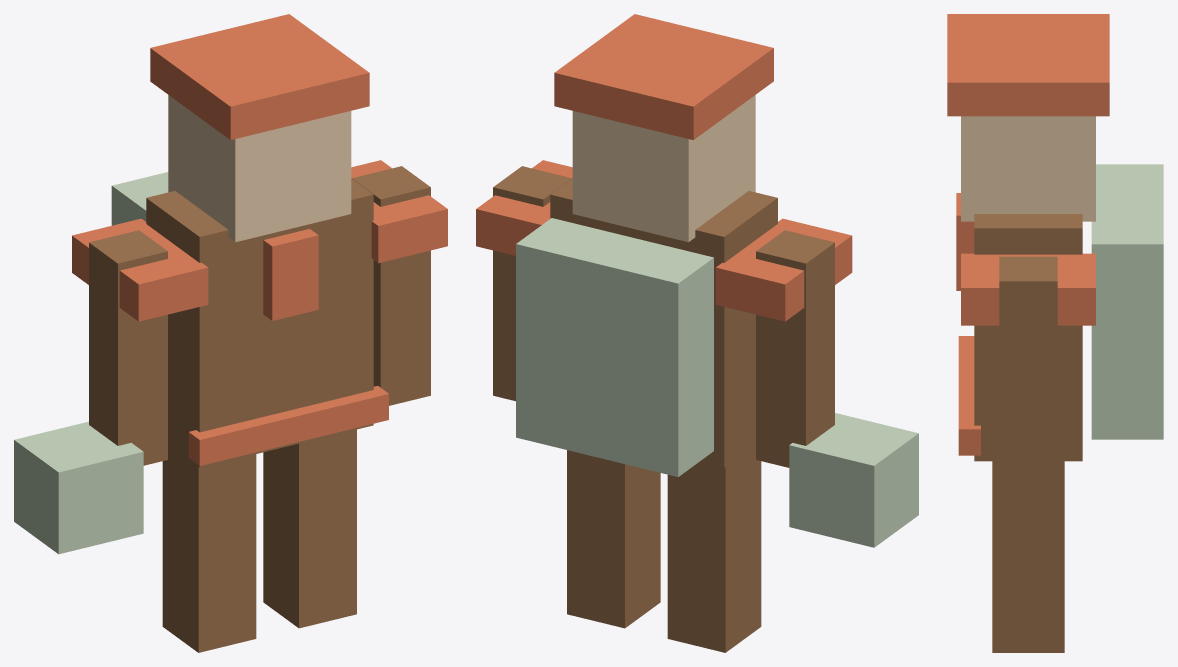
Rendered from 15_elo_echohand_operator_from_deprecated.glb.
The picture shows the model from 3 angles, left to right: view 1: azimuth 30°, elevation 25°; view 2: azimuth 150°, elevation 25°; view 3: azimuth 270°, elevation 25°; orthographic projection.
Parts seen in each view (by area): view 1: Elo Echohand, Operator from Deprecated; view 2: Elo Echohand, Operator from Deprecated; view 3: Elo Echohand, Operator from Deprecated.
Part boxes in pixels (x1,y1,x2,y2): Elo Echohand, Operator from Deprecated: (14,14,447,652); Elo Echohand, Operator from Deprecated: (476,14,918,652); Elo Echohand, Operator from Deprecated: (947,14,1163,652).
Bounding box in the file's own units: 1.07 × 1.49 × 0.5164.
